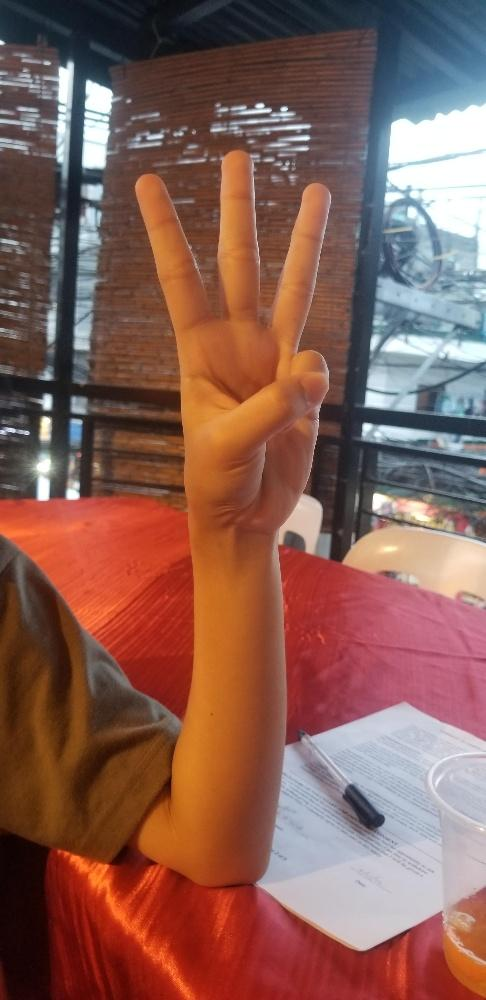w: (132, 147, 331, 530)
